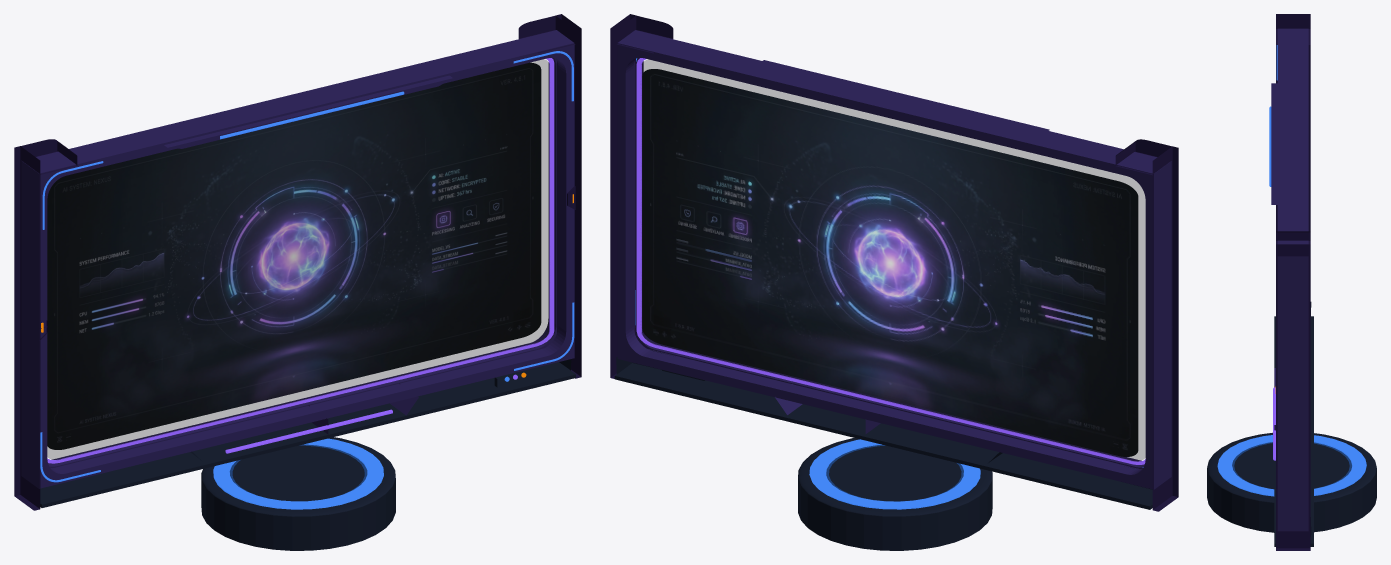
Rendered from screen.glb.
The picture shows the model from 3 angles, left to right: view 1: azimuth 30°, elevation 25°; view 2: azimuth 150°, elevation 25°; view 3: azimuth 270°, elevation 25°; orthographic projection. The views are drawn at different scales.
Visible parts, largest first — view 1: Glass, ScreenContent, InnerFrame, Base, SCreenBaseLarge, OuterFrame1, OuterFrame2, GlassGlow, PurpleLow, BlueUp; view 2: ScreenContent, InnerFrame, Base, SCreenBaseLarge, Glass, OuterFrame1, GlassGlow, OuterFrame2; view 3: InnerFrame, Base, OuterFrame2, OuterFrame1, SCreenBaseLarge, BlueUp.
Part boxes in pixels (x1,y1,x2,y2): Glass: (47, 59, 549, 459); ScreenContent: (47, 62, 541, 449); InnerFrame: (21, 30, 574, 488); Base: (201, 437, 395, 550); SCreenBaseLarge: (40, 362, 575, 507); OuterFrame1: (14, 139, 77, 510); OuterFrame2: (518, 14, 581, 378); GlassGlow: (47, 58, 554, 463); PurpleLow: (225, 409, 392, 453); BlueUp: (220, 91, 404, 139); ScreenContent: (642, 69, 1138, 456); InnerFrame: (617, 30, 1171, 489); Base: (798, 438, 992, 550); SCreenBaseLarge: (614, 363, 1152, 509); Glass: (641, 59, 1145, 461); OuterFrame1: (1115, 139, 1178, 511); GlassGlow: (636, 58, 1145, 464); OuterFrame2: (610, 14, 673, 378); InnerFrame: (1271, 28, 1308, 531); Base: (1207, 432, 1376, 532); OuterFrame2: (1276, 231, 1310, 550); OuterFrame1: (1276, 14, 1310, 231); SCreenBaseLarge: (1274, 316, 1313, 546); BlueUp: (1269, 106, 1271, 186).
Size of the model in its own units: 3.92 by 2.89 by 1.21.
Materials: 11 (1 with a texture image).
